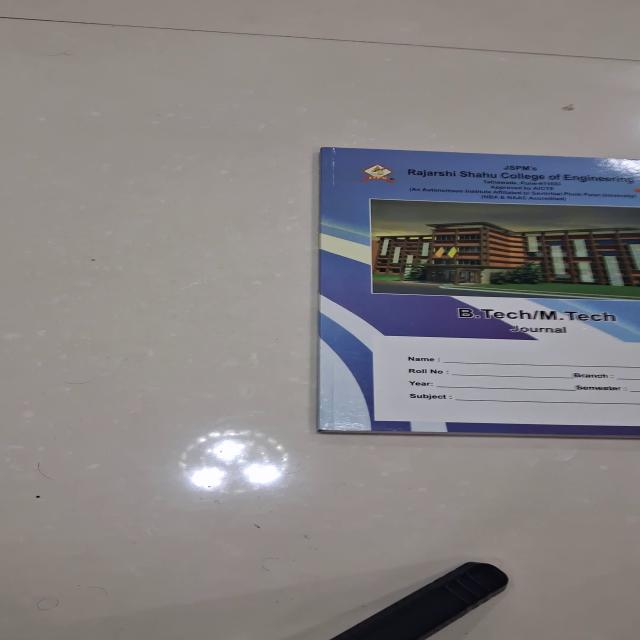paper: (315, 146, 639, 437)
